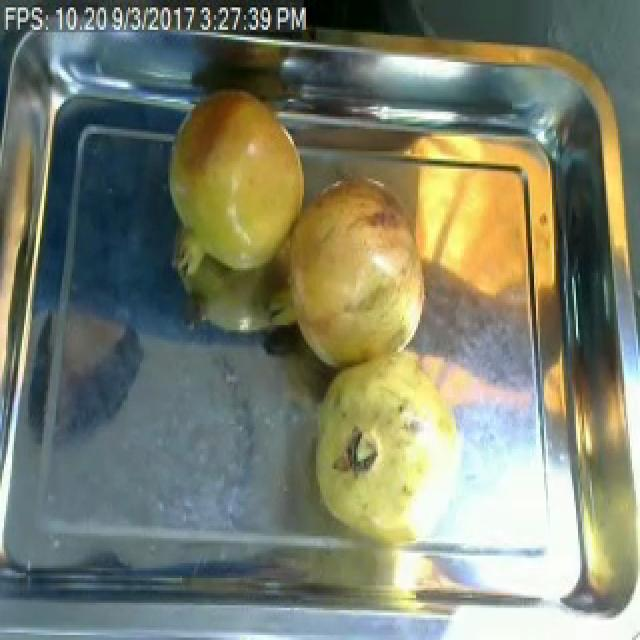fruit: (300, 342, 476, 561), (272, 164, 436, 382), (158, 80, 314, 286)
